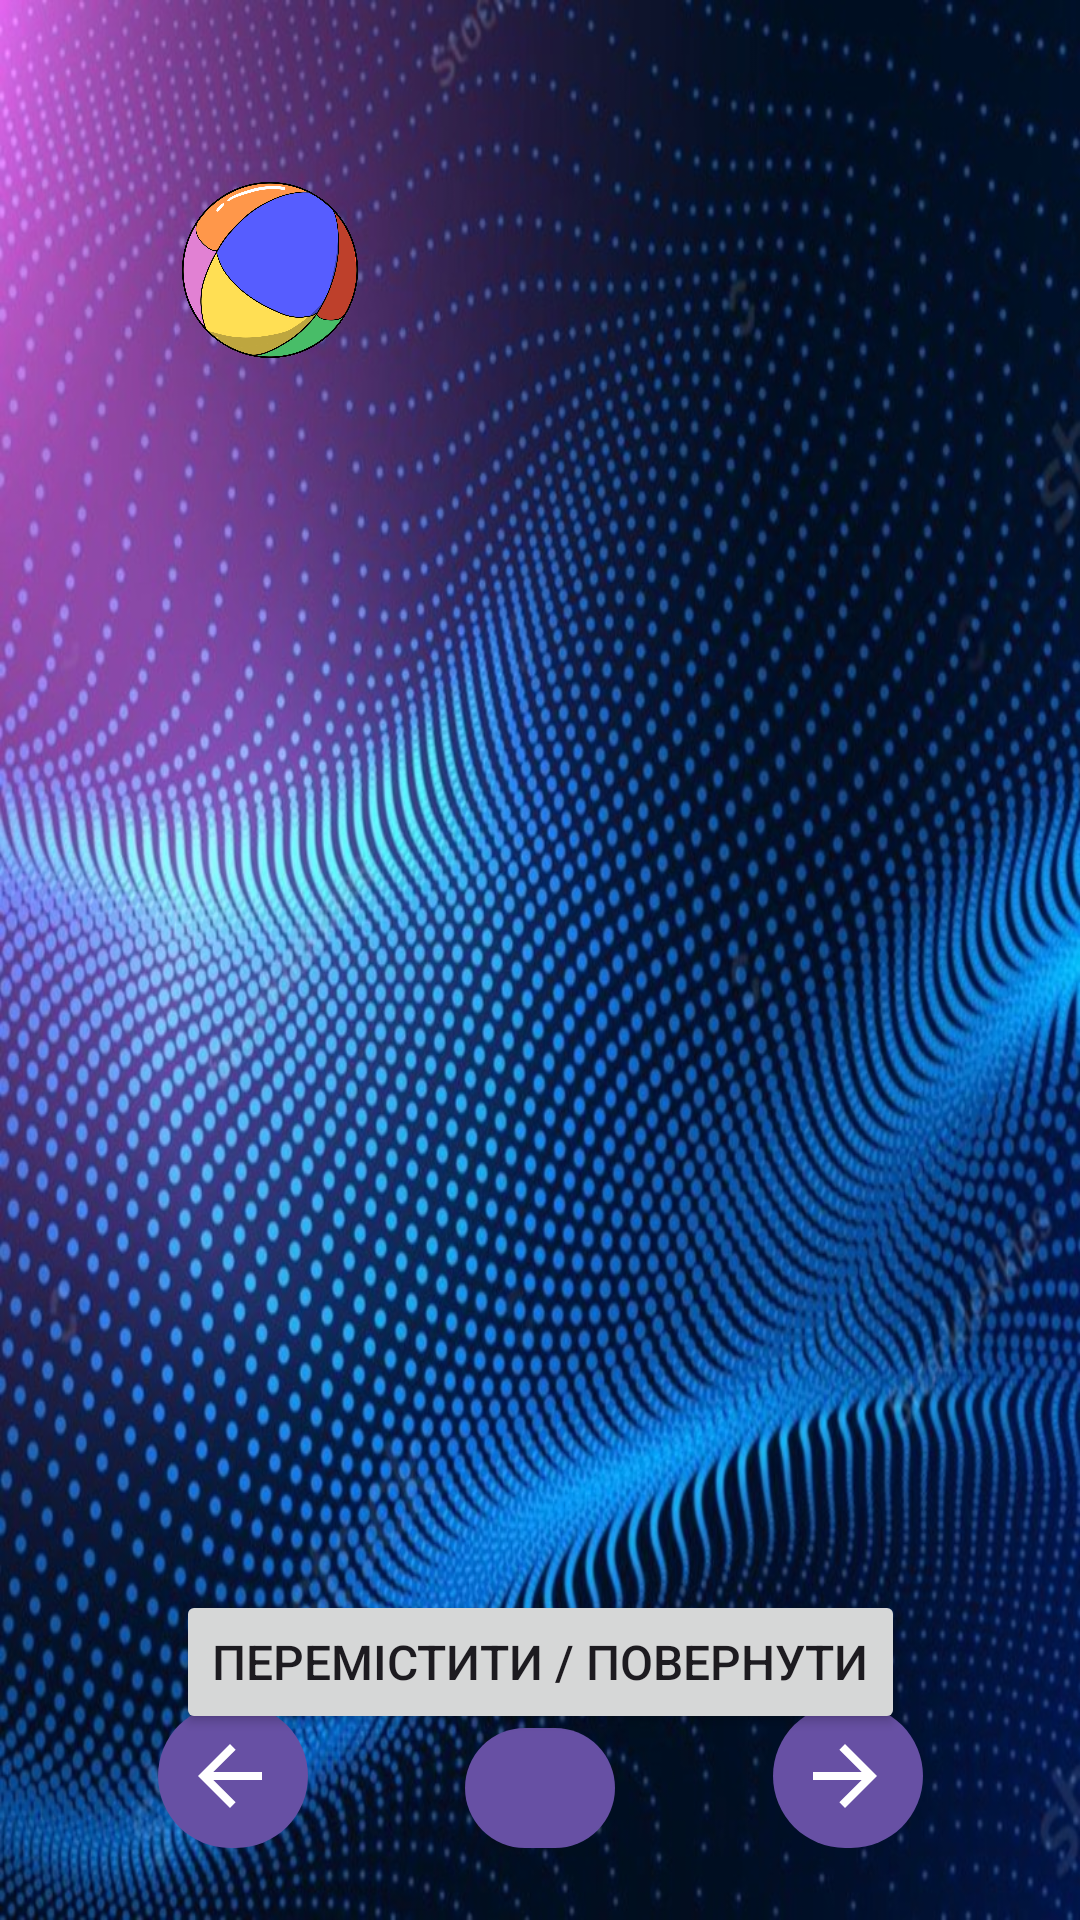

Screen size 1080×1920. Icon name, then its center in pixels as (x=x, y=y):
Кольоровий м'яч: (x=270, y=270)
Перейти вперед: (x=848, y=1776)
Повернутися назад: (x=233, y=1776)
